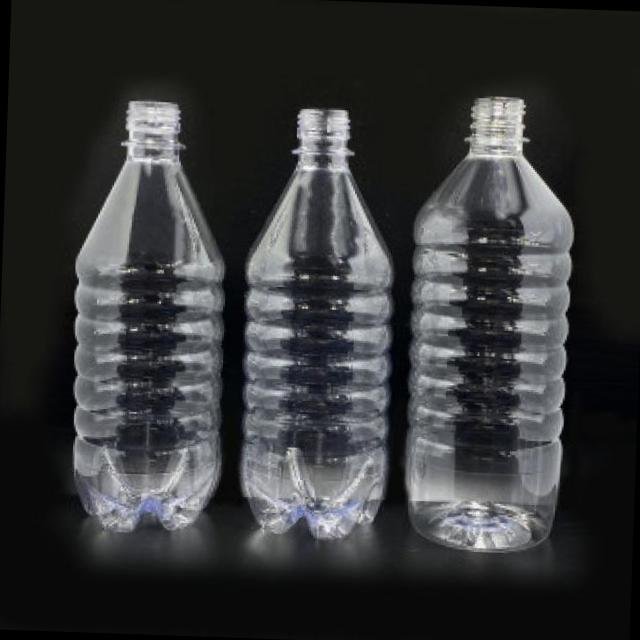plastic_bottle: (403, 96, 579, 554), (68, 98, 234, 538), (240, 106, 398, 544)
